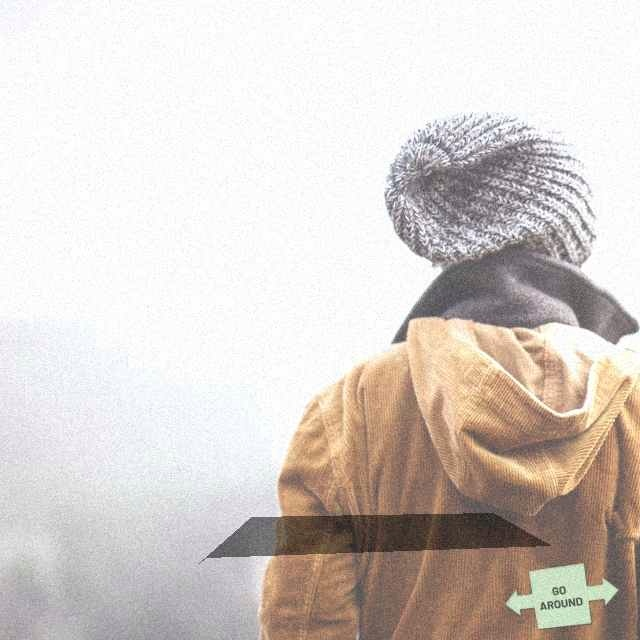GO_AROUND: (504, 562, 620, 630)
